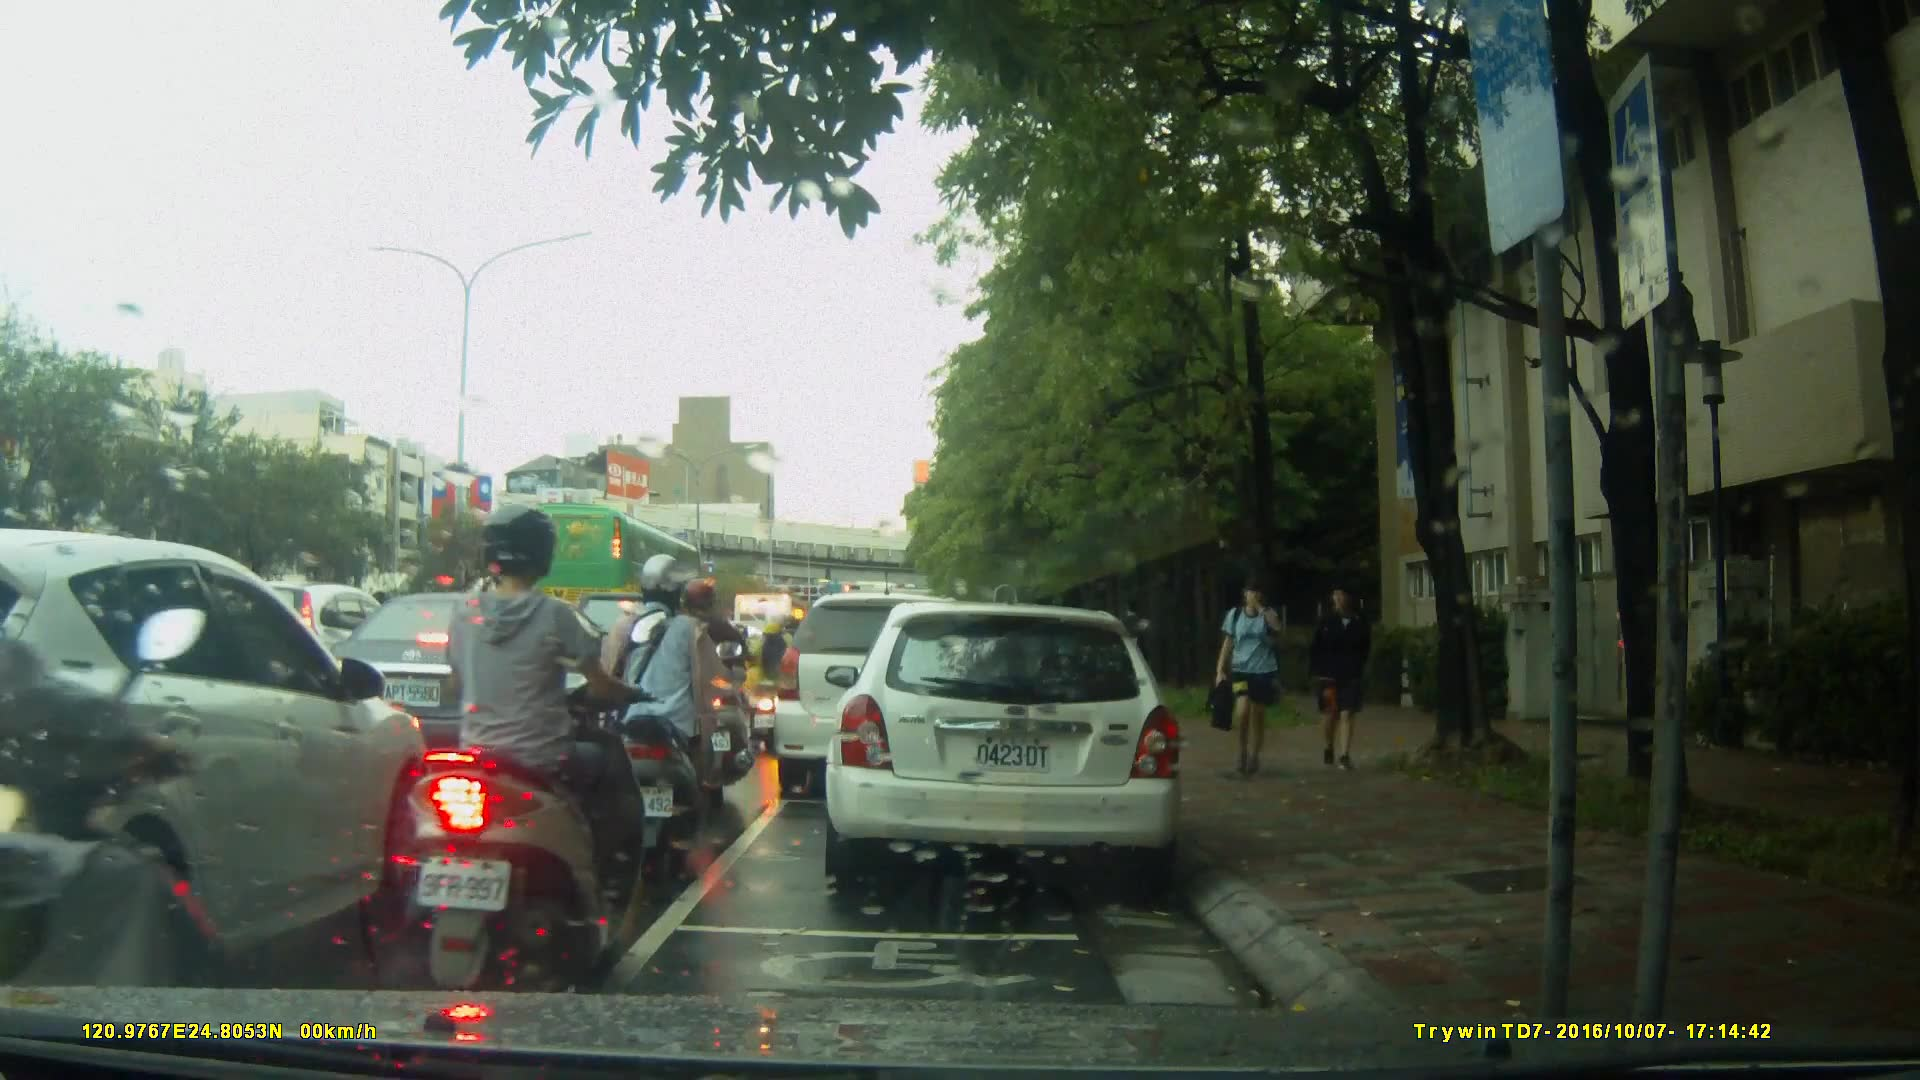pedestrian: (1198, 575, 1306, 780), (1308, 570, 1386, 776), (1122, 596, 1156, 691)
rider: (416, 500, 642, 983), (603, 553, 722, 862), (673, 577, 758, 788), (750, 609, 806, 751)
vehicle: (1, 528, 447, 988), (831, 592, 1196, 897), (313, 590, 633, 804), (770, 591, 999, 803), (495, 500, 707, 636)
